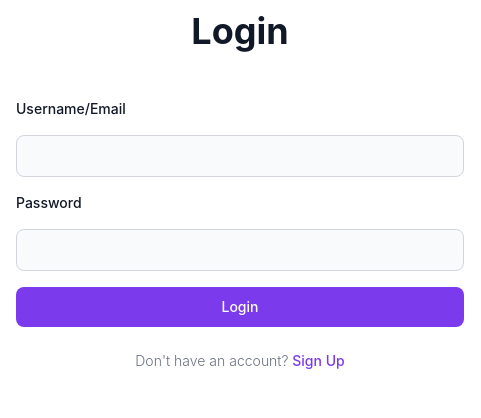
LoginForm component › shows validation errors on empty submit
The image size is (481, 418).
Type "testuser" into the field labelled "Username/Email".
click(240, 156); type("testuser")  # box [16, 135, 464, 177]
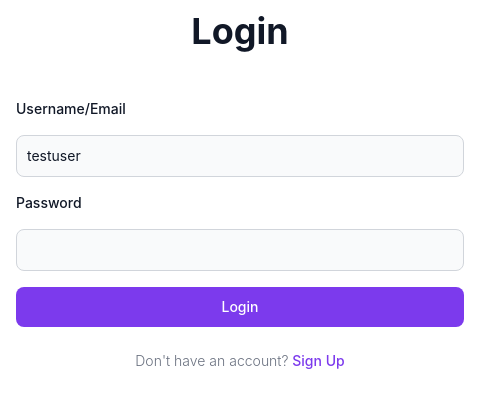
Type "wrongpassword" into the password field labelled "Password".
click(240, 250); type("wrongpassword")  # box [16, 229, 464, 271]
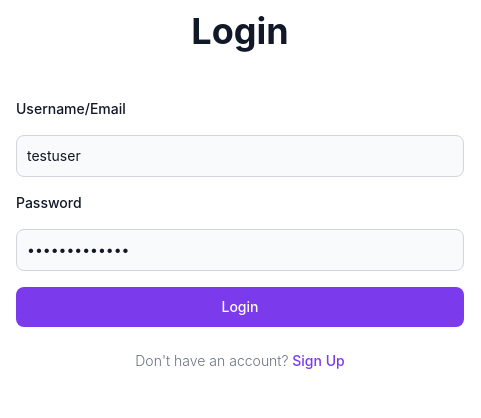
Click the button "Login".
click(240, 307)  # box [16, 287, 464, 327]
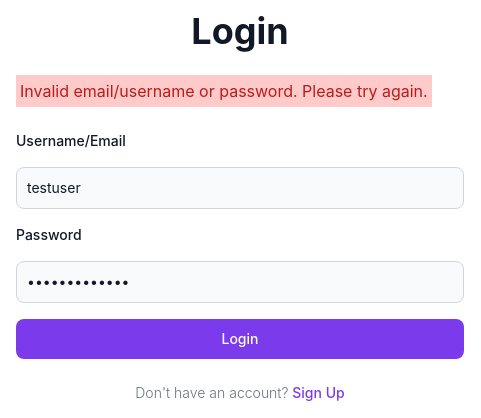
Expected: the text "Invalid email/username or password. Please try again." is shown, [16, 75, 432, 107]
